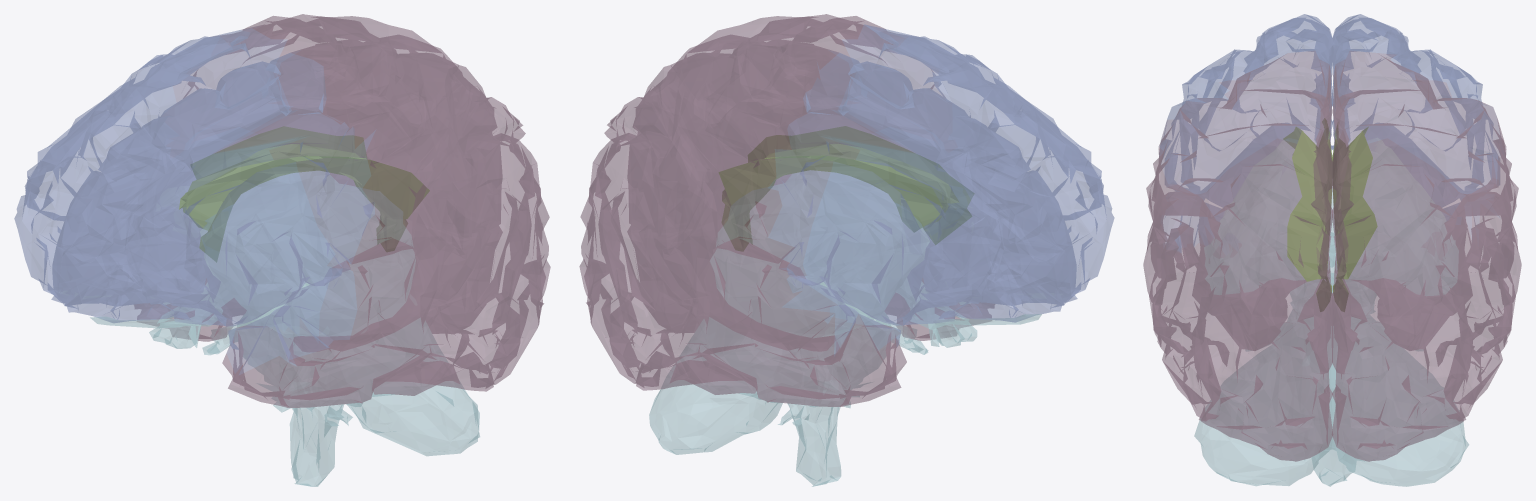
The model's file is brain.glb.
The picture shows the model from 3 angles, left to right: view 1: azimuth 30°, elevation 25°; view 2: azimuth 150°, elevation 25°; view 3: azimuth 270°, elevation 25°; orthographic projection. The views are drawn at different scales.
Parts seen in each view (by area): view 1: left_08 - Default_0 Front_08 - Default_0, left_08 - Default_0.001_08 - Default.001_0; view 2: left_08 - Default_0 Front_08 - Default_0, left_08 - Default_0.001_08 - Default.001_0; view 3: left_08 - Default_0 Front_08 - Default_0, left_08 - Default_0.001_08 - Default.001_0.
Part boxes in pixels (box(x1,y1,x2,y2)): left_08 - Default_0 Front_08 - Default_0: box(14, 14, 550, 486); left_08 - Default_0.001_08 - Default.001_0: box(179, 126, 429, 262); left_08 - Default_0 Front_08 - Default_0: box(579, 14, 1114, 486); left_08 - Default_0.001_08 - Default.001_0: box(718, 126, 974, 251); left_08 - Default_0 Front_08 - Default_0: box(1143, 14, 1521, 486); left_08 - Default_0.001_08 - Default.001_0: box(1283, 118, 1377, 311).
Bounding box in the file's own units: 4.73 × 4.32 × 3.5.
Materials: 2 (2 with a texture image).
